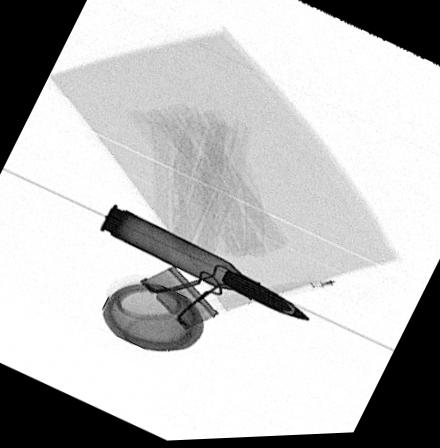Bullet: (97, 204, 313, 326)
